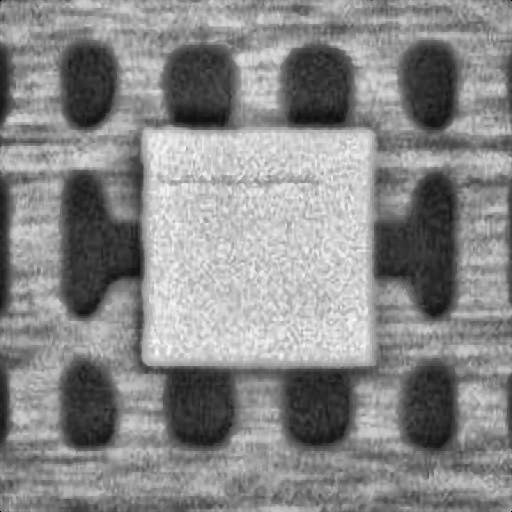DIE_CRACK: (160, 165, 316, 183)
